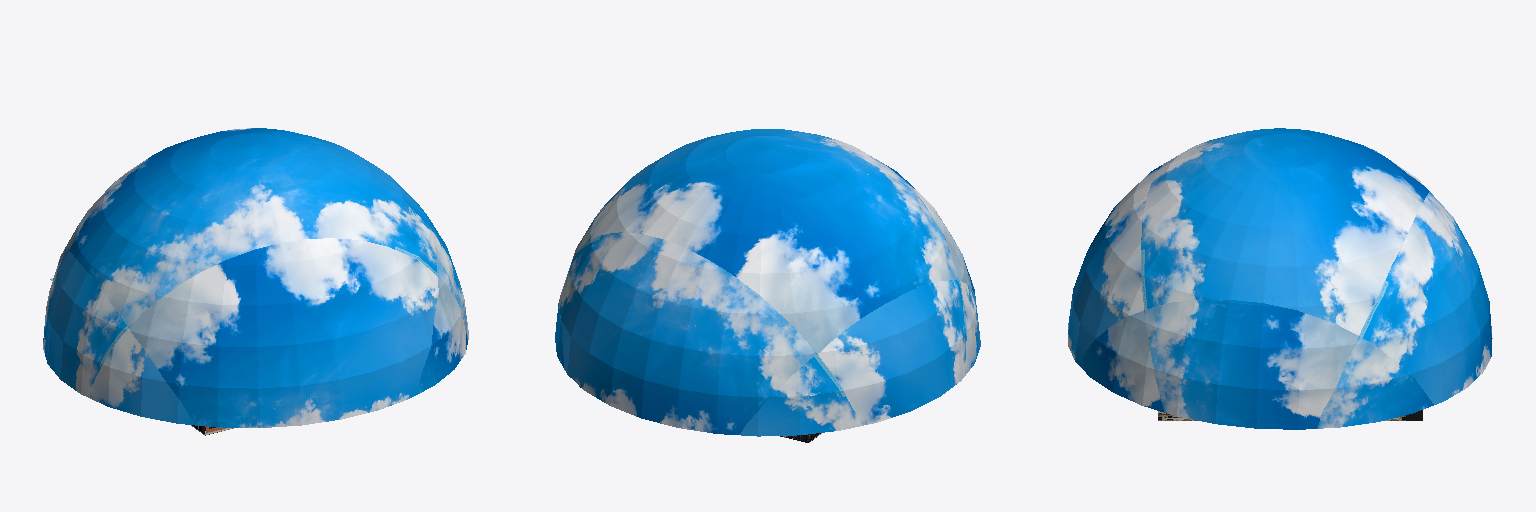
The picture shows the model from 3 angles: view 1: azimuth 30°, elevation 25°; view 2: azimuth 150°, elevation 25°; view 3: azimuth 270°, elevation 25°; orthographic projection.
Visible parts, largest first — view 1: Sphere; view 2: Sphere; view 3: Sphere.
Boxes of the visible parts, <box> form: Sphere: <box>43,128,468,427</box>; Sphere: <box>555,129,980,436</box>; Sphere: <box>1068,128,1492,429</box>.
Bounding box in the file's own units: 25.24 × 14.13 × 25.23.
29 materials, 19 textured.